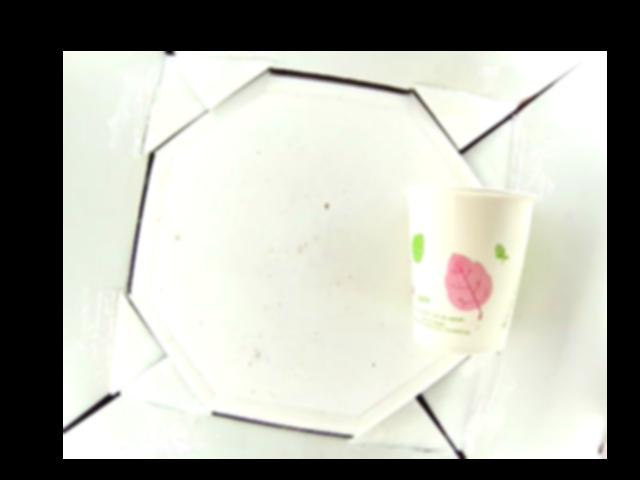Cup: (405, 183, 535, 356)
